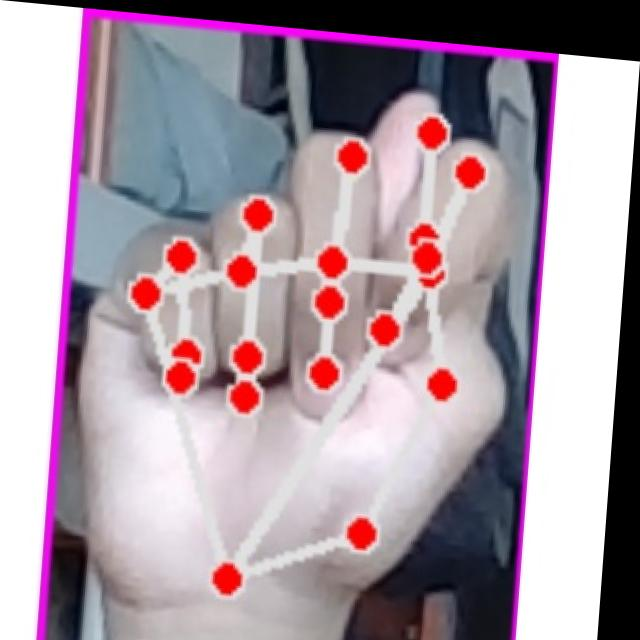T: (63, 48, 534, 640)
